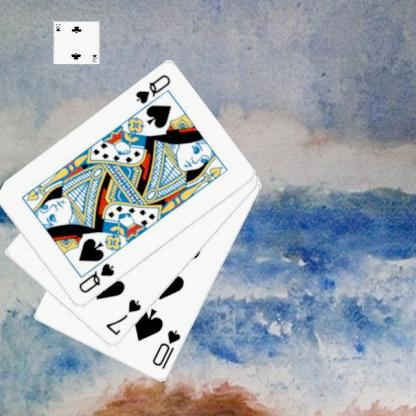10S: (149, 327, 183, 372)
7S: (102, 296, 144, 338)
QS: (75, 260, 116, 295), (132, 72, 172, 106)
